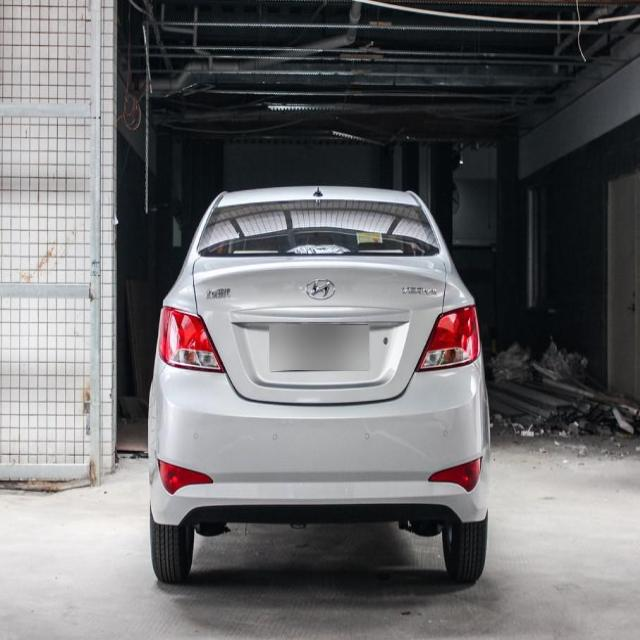back_glass: (196, 197, 444, 259)
back_left_side_light: (159, 303, 224, 372)
back_right_side_light: (414, 302, 483, 376)
rear_bumper: (148, 368, 490, 525)
wheel: (442, 505, 488, 581), (149, 511, 196, 585)
